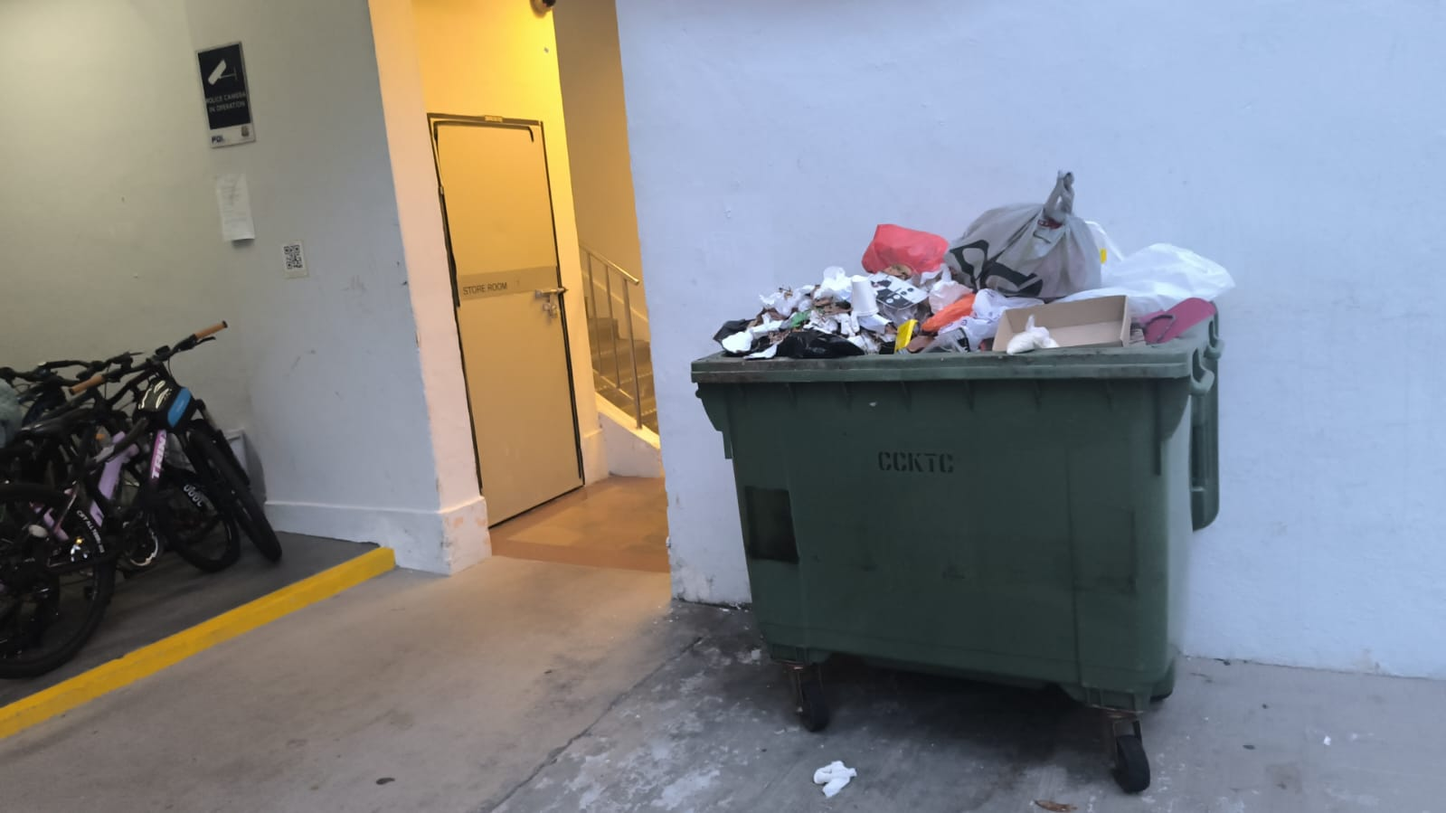bin_full: (692, 172, 1233, 791)
normal_waste: (945, 172, 1101, 300), (862, 224, 948, 273)
